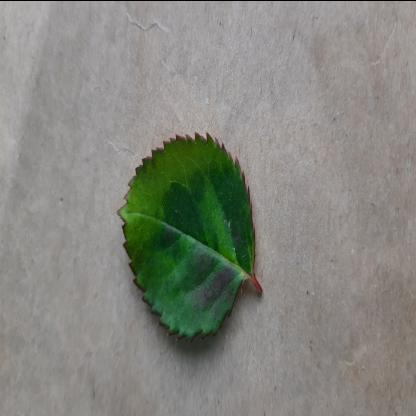downy-mildew: (118, 124, 258, 352)
